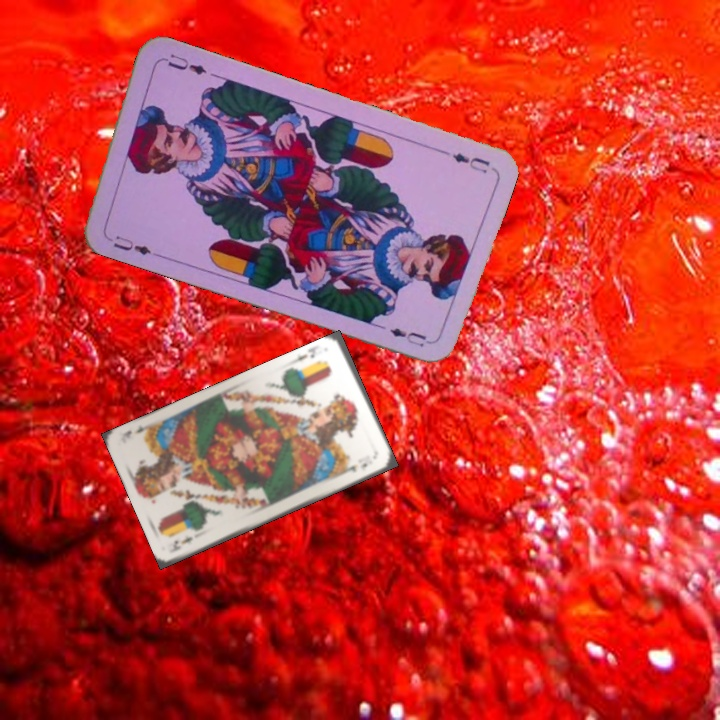EK: (291, 342, 322, 366), (168, 532, 195, 553)
EU: (101, 230, 154, 258), (448, 148, 493, 176)
